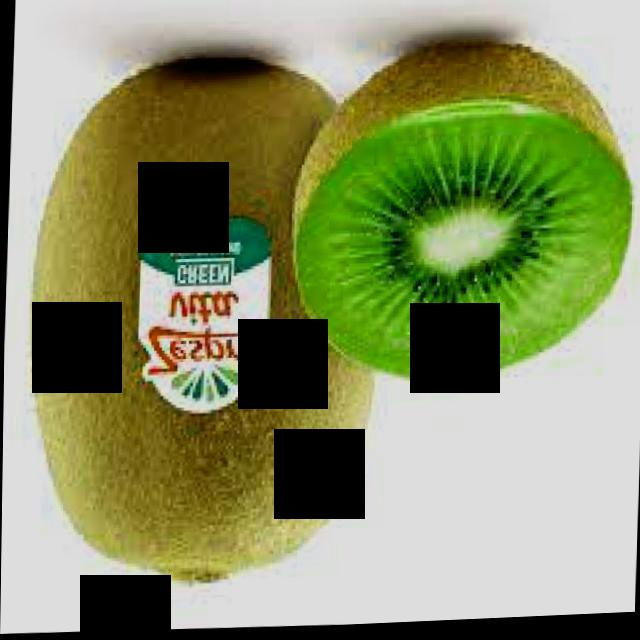kiwi: (16, 49, 395, 602)
